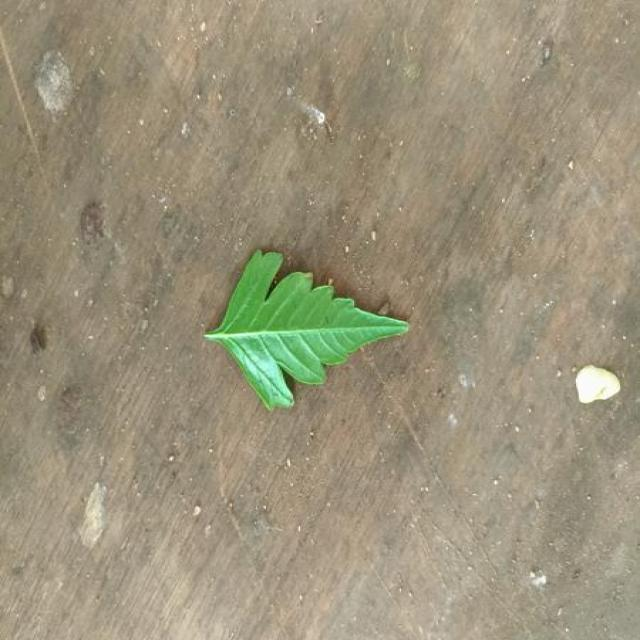balloon_Vine: (205, 250, 408, 408)
